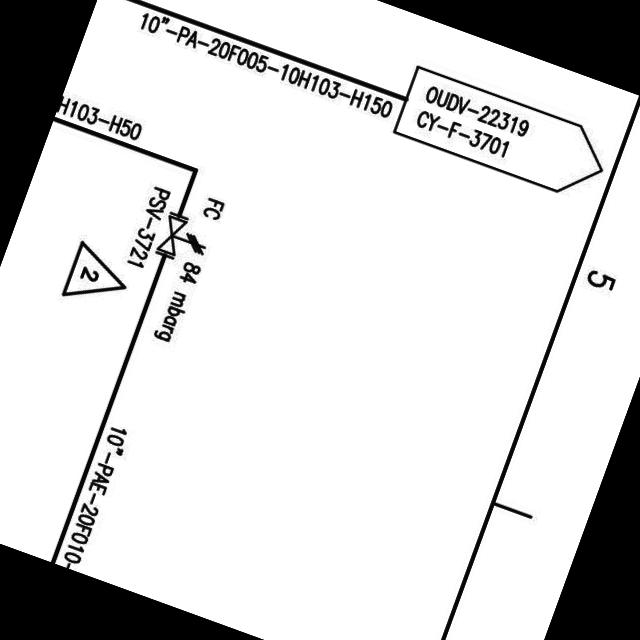RPV: (146, 204, 220, 278)
